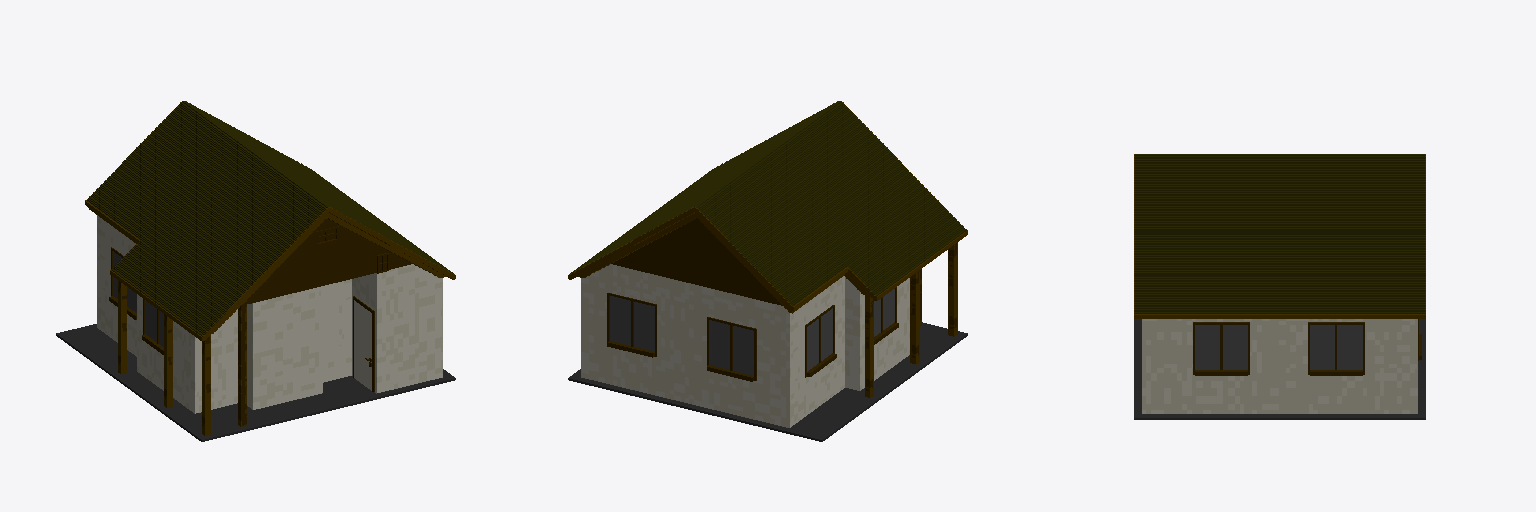
3 views of the same model, side by side, from view 1: azimuth 30°, elevation 25°; view 2: azimuth 150°, elevation 25°; view 3: azimuth 270°, elevation 25° (orthographic).
Visible parts, largest first — view 1: object 1; view 2: object 1; view 3: object 1.
Boxes of the visible parts, box(x1,y1,x2,y2) form: object 1: box(56, 101, 455, 441); object 1: box(568, 101, 967, 441); object 1: box(1134, 154, 1425, 419).
Bounding box in the file's own units: 25.6 × 19.6 × 25.4.
Materials: 1 (1 with a texture image).